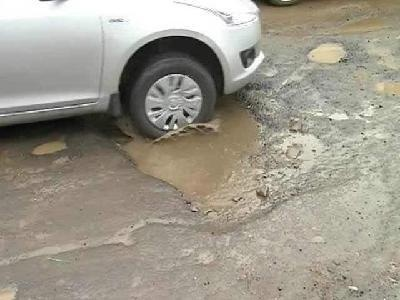pothole: (110, 76, 308, 231), (305, 38, 351, 63), (28, 136, 70, 157), (370, 73, 399, 101)
